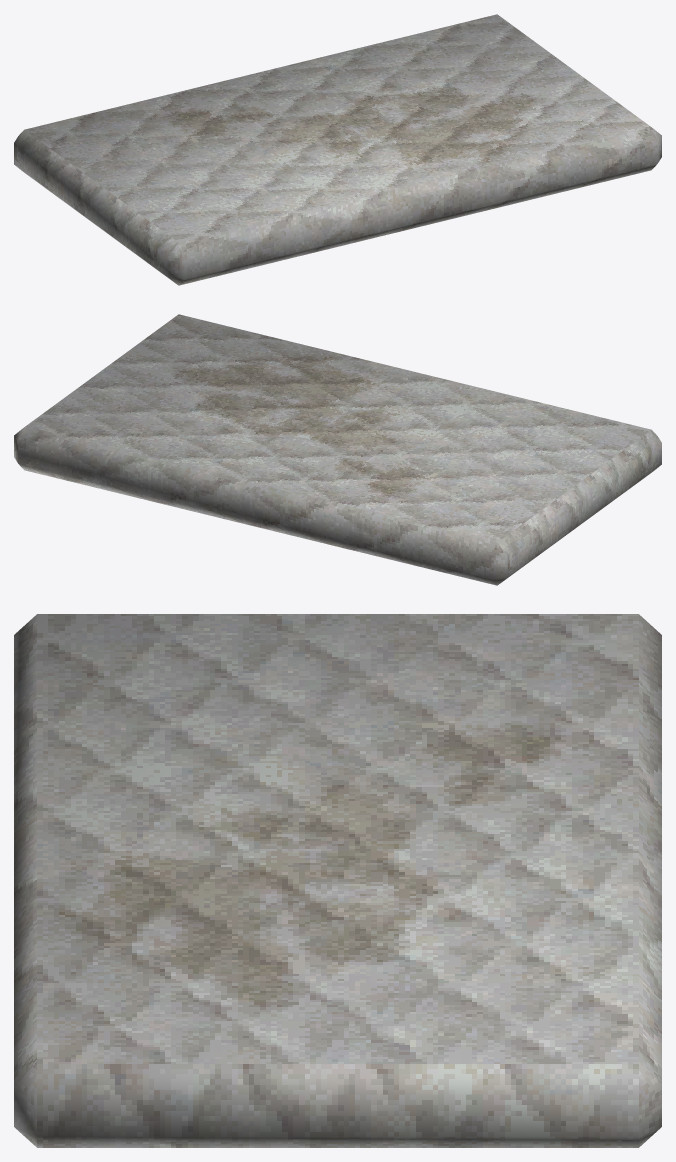
Rendered from mattress.glb.
3 renders of one model, top to bottom at view 1: azimuth 30°, elevation 25°; view 2: azimuth 150°, elevation 25°; view 3: azimuth 270°, elevation 25°, orthographic. The views are drawn at different scales.
Visible parts, largest first — view 1: Mattress; view 2: Mattress; view 3: Mattress.
Part boxes in pixels (left/top/right/bottom): Mattress: left=14, top=14, right=661, bottom=285; Mattress: left=14, top=314, right=661, bottom=585; Mattress: left=14, top=614, right=661, bottom=1147.
Bounding box in the file's own units: 1.82 × 0.152 × 1.06.
1 material, 1 textured.
